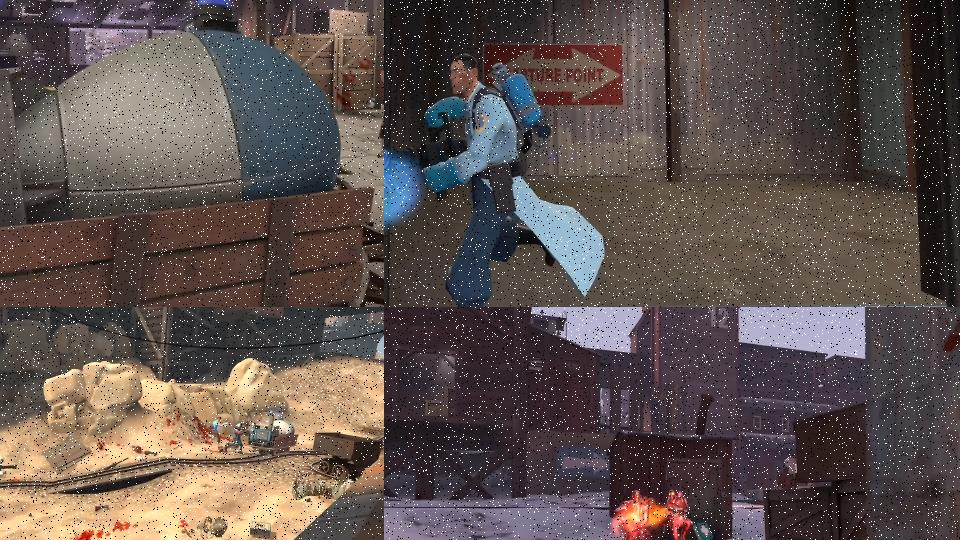Enemy: (384, 42, 610, 307), (602, 489, 657, 540), (661, 488, 694, 540), (223, 418, 251, 456), (208, 415, 231, 453), (0, 443, 17, 484)
